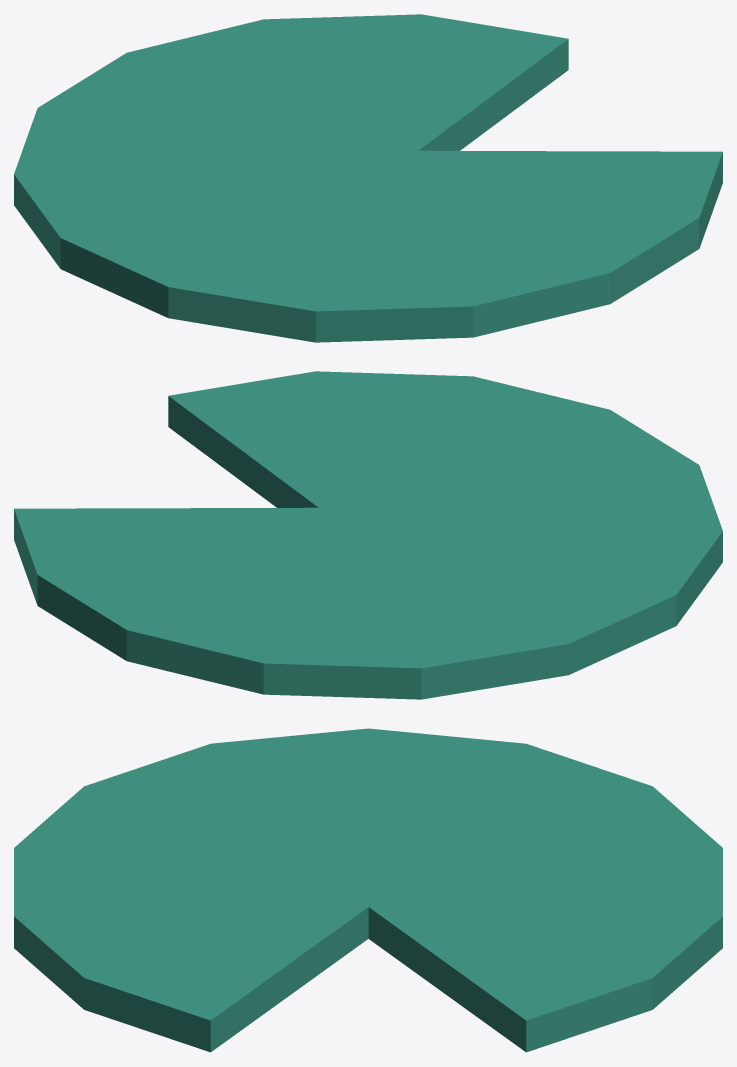
File: pad.glb
The picture shows the model from 3 angles, top to bottom: view 1: azimuth 30°, elevation 25°; view 2: azimuth 150°, elevation 25°; view 3: azimuth 270°, elevation 25°; orthographic projection. The views are drawn at different scales.
Parts seen in each view (by area): view 1: Pad; view 2: Pad; view 3: Pad.
Part boxes in pixels (box(x1,y1,x2,y2)): Pad: box(14, 14, 722, 342); Pad: box(14, 371, 722, 699); Pad: box(14, 728, 722, 1052).
Bounding box in the file's own units: 1.18 × 0.06 × 1.21.
